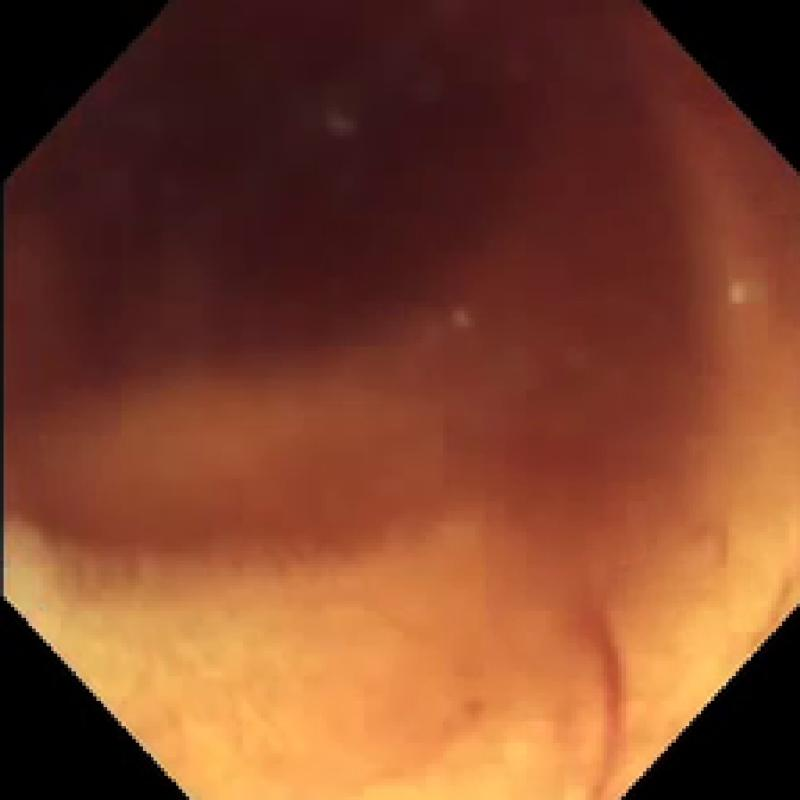bleeding: (11, 11, 775, 764)
